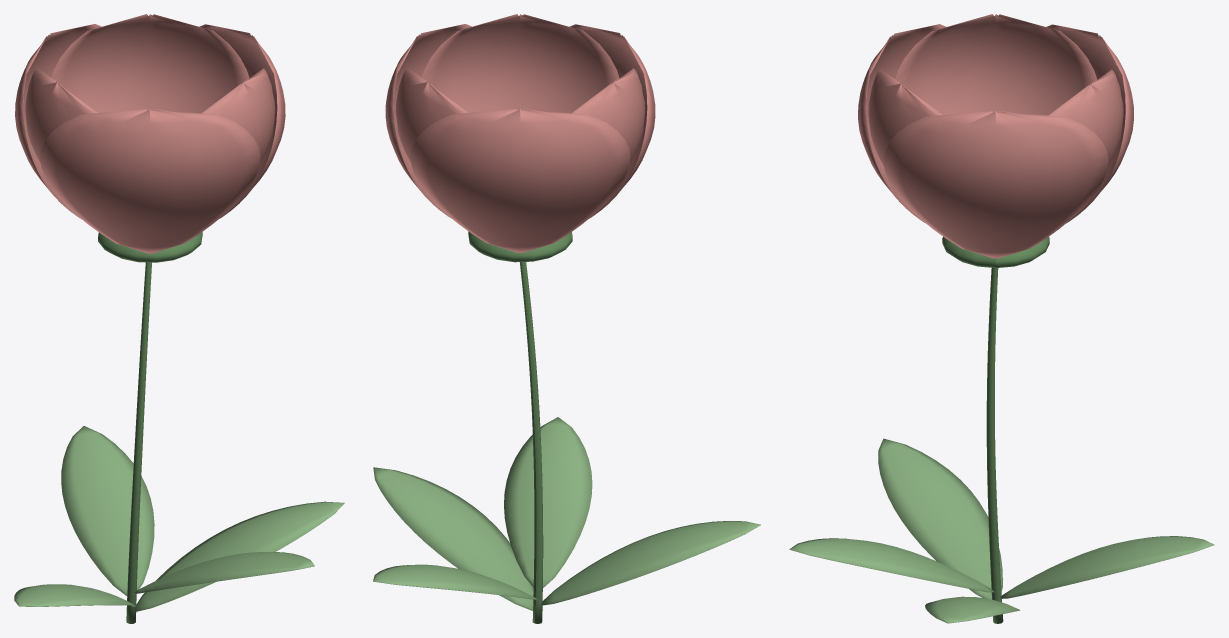
File: tulip-rare-v2.glb
The picture shows the model from 3 angles, left to right: view 1: azimuth 30°, elevation 25°; view 2: azimuth 150°, elevation 25°; view 3: azimuth 270°, elevation 25°; orthographic projection. The views are drawn at different scales.
Parts seen in each view (by area): view 1: tulip-rare-v2-petal, tulip-rare-v2-leaf, tulip-rare-v2-stem; view 2: tulip-rare-v2-petal, tulip-rare-v2-leaf, tulip-rare-v2-stem; view 3: tulip-rare-v2-petal, tulip-rare-v2-leaf, tulip-rare-v2-stem.
Boxes of the visible parts, <box> form: tulip-rare-v2-petal: <box>15,14,285,253</box>; tulip-rare-v2-leaf: <box>14,426,344,611</box>; tulip-rare-v2-stem: <box>98,232,202,623</box>; tulip-rare-v2-petal: <box>385,14,655,252</box>; tulip-rare-v2-leaf: <box>373,417,760,610</box>; tulip-rare-v2-stem: <box>468,231,572,623</box>; tulip-rare-v2-petal: <box>858,14,1133,258</box>; tulip-rare-v2-leaf: <box>789,438,1214,623</box>; tulip-rare-v2-stem: <box>942,237,1049,623</box>.
Bounding box in the file's own units: 1.41 × 2.11 × 1.43.
